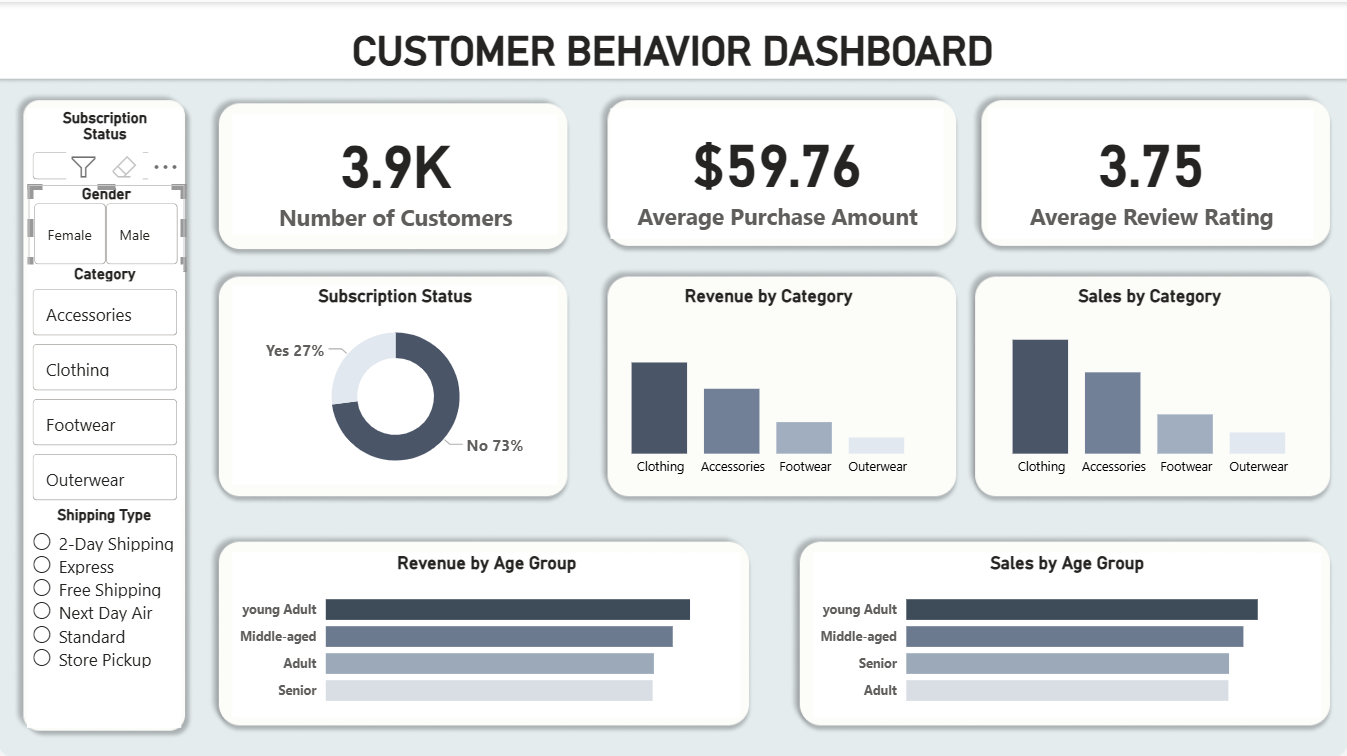

The dashboard page shown, as its layout file describes it:
{"tool":"powerbi","page":{"name":"Page 1","canvas":[1280,720],"ordinal":0},"visuals":[{"type":"card","fields":{"Values":["customer_behavior customer.Number of Customers"]},"box":[222.5,107,308.2,113.6],"z":0},{"type":"card","fields":{"Values":["customer_behavior customer.Average Purchase Amount"]},"box":[580.4,101.3,315.3,123.6],"z":1000},{"type":"card","fields":{"Values":["customer_behavior customer.Average Review Rating"]},"box":[938.2,101.3,308.2,123.6],"z":2000},{"type":"textbox","box":[0,0,1279.5,72.4],"z":3000},{"type":"donutChart","title":"Subscription Status","fields":{"Category":["customer_behavior customer.subscription_status"],"Y":["CountNonNull(customer_behavior customer.customer_id)"]},"box":[223,268.4,308.2,188.9],"z":4000},{"type":"clusteredColumnChart","title":"Revenue by Category","fields":{"Y":["Sum(customer_behavior customer.purchase_amount)"],"Category":["customer_behavior customer.category"]},"box":[567.3,268.4,325.2,188.9],"z":5000},{"type":"clusteredColumnChart","title":"Sales by Category","fields":{"Y":["CountNonNull(customer_behavior customer.customer_id)"],"Category":["customer_behavior customer.category"]},"box":[928.8,268.4,325.2,188.9],"z":6000},{"type":"advancedSlicerVisual","title":"Subscription Status","fields":{"Values":["customer_behavior customer.subscription_status"]},"box":[28.4,100.8,147.7,72.4],"z":7000},{"type":"advancedSlicerVisual","title":"Gender","fields":{"Values":["customer_behavior customer.gender"]},"box":[29.8,173.3,147.7,80.9],"z":8000},{"type":"advancedSlicerVisual","title":"Category","fields":{"Values":["customer_behavior customer.category"]},"box":[28.4,248.5,147.7,228.6],"z":9000},{"type":"listSlicer","title":"Shipping Type","fields":{"Values":["customer_behavior customer.shipping_type"]},"box":[28.4,477.2,146.3,210.2],"z":10000},{"type":"clusteredBarChart","title":"Revenue by Age Group","fields":{"Y":["Sum(customer_behavior customer.purchase_amount)"],"Category":["customer_behavior customer.age_group"]},"box":[223,521.2,481.4,156.2],"z":11000},{"type":"clusteredBarChart","title":"Sales by Age Group","fields":{"Y":["CountNonNull(customer_behavior customer.customer_id)"],"Category":["customer_behavior customer.age_group"]},"box":[772.5,521.2,481.4,156.2],"z":12000}]}

Visuals, with their boxes in screenshot pixels (x1, y1, x2, y2), scaled from the page's 1280x720 canvas onto the 1347x756 screenshot:
card - customer_behavior customer.Number of Customers: rect(234, 112, 558, 232)
card - customer_behavior customer.Average Purchase Amount: rect(611, 106, 943, 236)
card - customer_behavior customer.Average Review Rating: rect(987, 106, 1312, 236)
textbox: rect(0, 0, 1346, 76)
"Subscription Status" donutChart: rect(235, 282, 559, 480)
"Revenue by Category" clusteredColumnChart: rect(597, 282, 939, 480)
"Sales by Category" clusteredColumnChart: rect(977, 282, 1320, 480)
"Subscription Status" advancedSlicerVisual: rect(30, 106, 185, 182)
"Gender" advancedSlicerVisual: rect(31, 182, 187, 267)
"Category" advancedSlicerVisual: rect(30, 261, 185, 501)
"Shipping Type" listSlicer: rect(30, 501, 184, 722)
"Revenue by Age Group" clusteredBarChart: rect(235, 547, 741, 711)
"Sales by Age Group" clusteredBarChart: rect(813, 547, 1320, 711)
